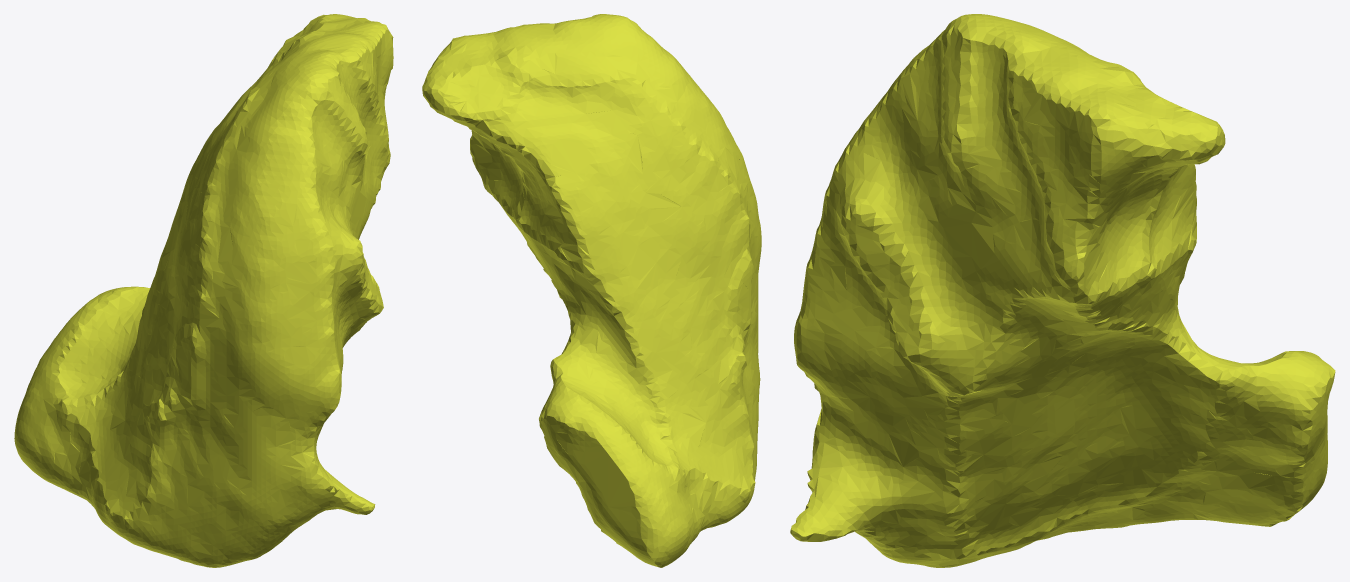
File: Model_10234_LH__Putamen_(Pu).obj
3 renders of one model, left to right at view 1: azimuth 30°, elevation 25°; view 2: azimuth 150°, elevation 25°; view 3: azimuth 270°, elevation 25°, orthographic. The views are drawn at different scales.
Size of the model in its own units: 5.12 by 7.31 by 5.82.
